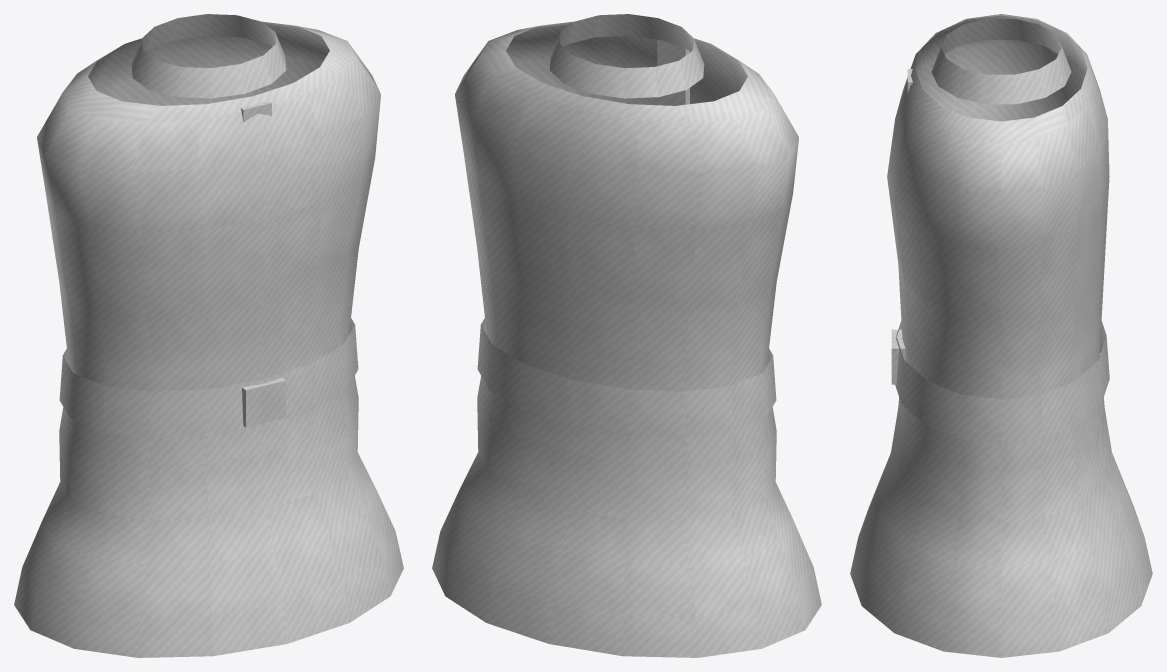
File: shirt_tunic_torso_m.glb
3 views of the same model, side by side, from view 1: azimuth 30°, elevation 25°; view 2: azimuth 150°, elevation 25°; view 3: azimuth 270°, elevation 25° (orthographic). The views are drawn at different scales.
Parts seen in each view (by area): view 1: shirt_tunic_torso_m; view 2: shirt_tunic_torso_m; view 3: shirt_tunic_torso_m.
Boxes of the visible parts, x1=… form: shirt_tunic_torso_m: x1=14, y1=14, x2=403, y2=657; shirt_tunic_torso_m: x1=432, y1=14, x2=821, y2=657; shirt_tunic_torso_m: x1=850, y1=14, x2=1152, y2=657.
Size of the model in its own units: 0.5 by 0.73 by 0.38.
Materials: 1 (1 with a texture image).
